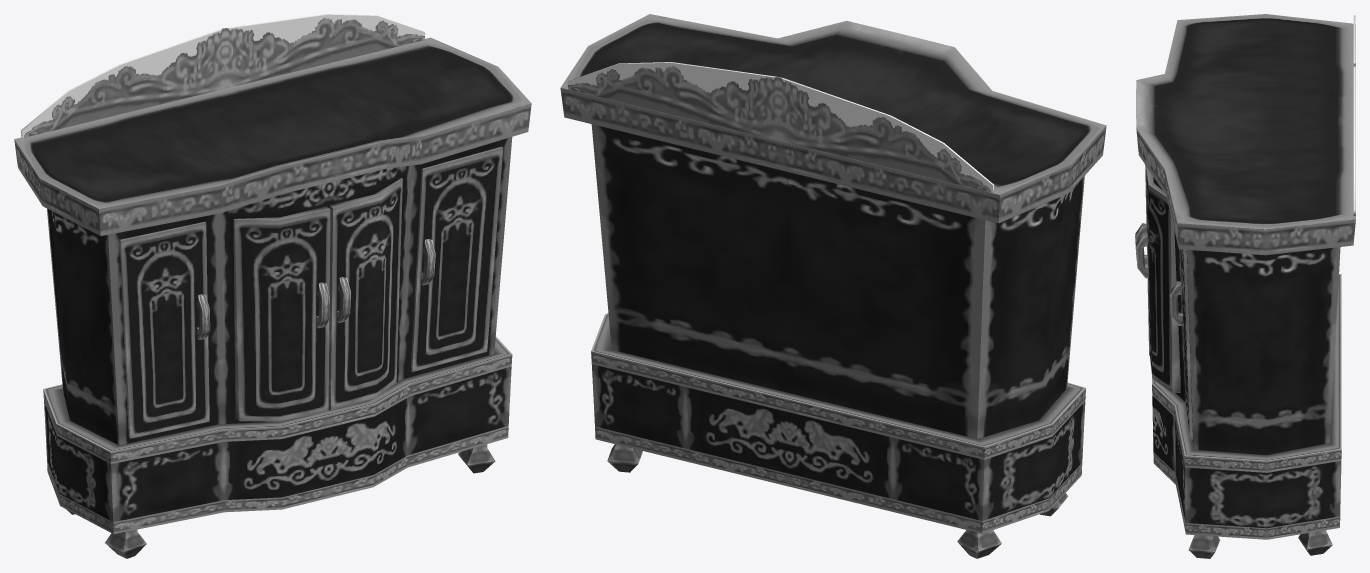
File: KingCabinet_HD.fbx
The picture shows the model from 3 angles, left to right: view 1: azimuth 30°, elevation 25°; view 2: azimuth 150°, elevation 25°; view 3: azimuth 270°, elevation 25°; orthographic projection. The views are drawn at different scales.
Parts seen in each view (by area): view 1: KingCabinet; view 2: KingCabinet; view 3: KingCabinet.
Boxes of the visible parts, box(x1,y1,x2,y2) form: KingCabinet: box(14, 14, 531, 558); KingCabinet: box(560, 14, 1106, 558); KingCabinet: box(1135, 14, 1355, 558).
Size of the model in its own units: 1.93 by 1.71 by 0.8367.
